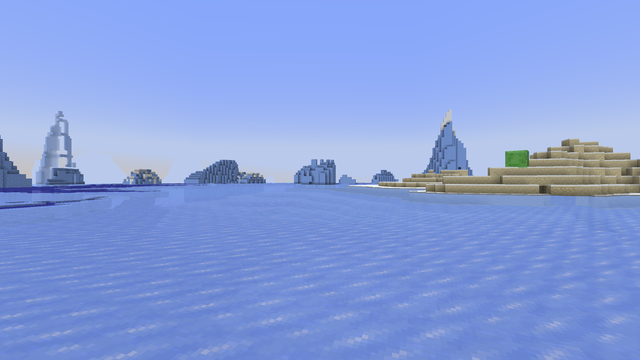slimes: (503, 149, 530, 168)
